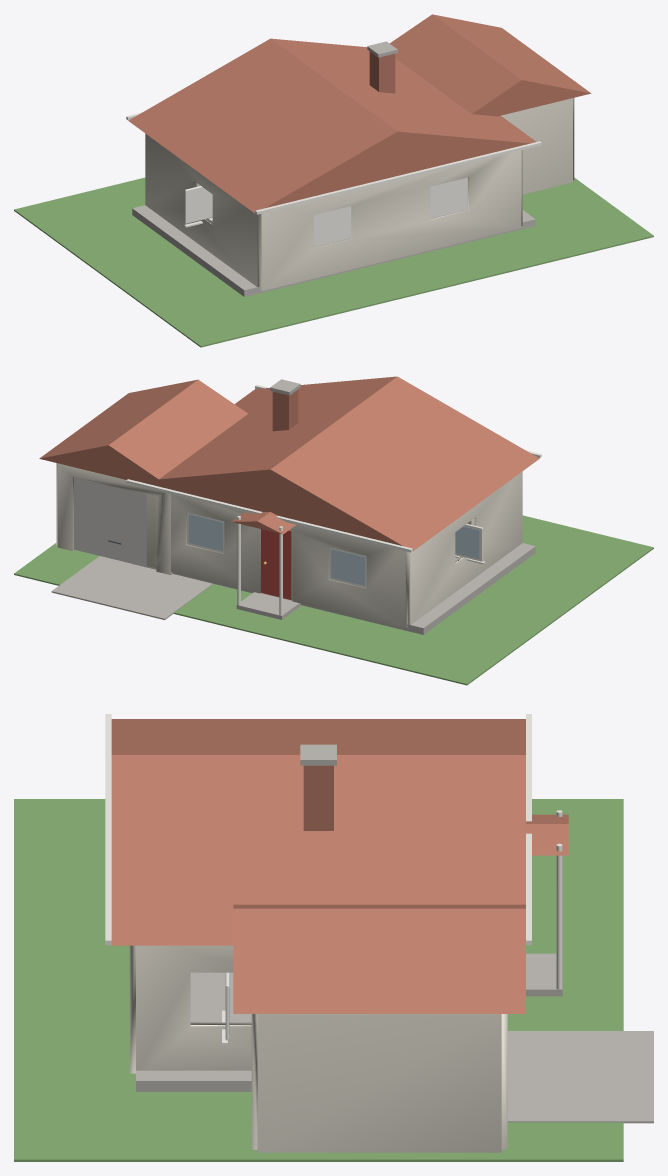
Rendered from suburban_house_v2_textured.glb.
3 renders of one model, top to bottom at view 1: azimuth 30°, elevation 25°; view 2: azimuth 150°, elevation 25°; view 3: azimuth 270°, elevation 25°, orthographic. The views are drawn at different scales.
Visible parts, largest first — view 1: main_roof, lawn, merged_wall_stucco (×2), garage_roof, frame (×3), foundation, back_gutter, chimney; view 2: main_roof, lawn, merged_wall_stucco (×2), garage_roof, panel (×2), driveway, frame (×3), foundation, glass (×3), front_gutter, porch_slab, chimney (+1 smaller); view 3: main_roof, lawn, merged_wall_stucco (×2), garage_roof, driveway, foundation, chimney, back_gutter, porch_roof, porch_slab, front_gutter, porch_post_r (+2 smaller).
Part boxes in pixels (x1,y1,x2,y2): main_roof: [128, 38, 536, 213]; lawn: [14, 177, 653, 347]; merged_wall_stucco (×2): [145, 98, 574, 290]; garage_roof: [390, 14, 591, 116]; frame (×3): [185, 177, 467, 247]; foundation: [132, 205, 535, 296]; back_gutter: [255, 141, 541, 214]; chimney: [369, 51, 395, 93]; main_roof: [138, 376, 539, 551]; lawn: [14, 515, 653, 685]; merged_wall_stucco (×2): [56, 463, 522, 628]; garage_roof: [39, 379, 247, 489]; panel (×2): [74, 477, 291, 599]; driveway: [51, 556, 213, 619]; frame (×3): [187, 512, 482, 588]; foundation: [133, 543, 535, 634]; glass (×3): [189, 514, 479, 585]; front_gutter: [126, 479, 412, 552]; porch_slab: [236, 592, 300, 619]; chimney: [272, 389, 298, 431]; main_roof: [111, 719, 525, 945]; lawn: [14, 799, 623, 1161]; merged_wall_stucco (×2): [129, 945, 507, 1152]; garage_roof: [233, 904, 525, 1013]; driveway: [507, 1031, 653, 1123]; foundation: [136, 972, 251, 1091]; chimney: [303, 765, 333, 830]; back_gutter: [105, 714, 111, 945]; porch_roof: [526, 814, 568, 855]; porch_slab: [526, 953, 562, 996]; front_gutter: [526, 714, 531, 945]; porch_post_r: [556, 843, 562, 989].
Size of the model in its own units: 14.15 by 4.85 by 10.5.
